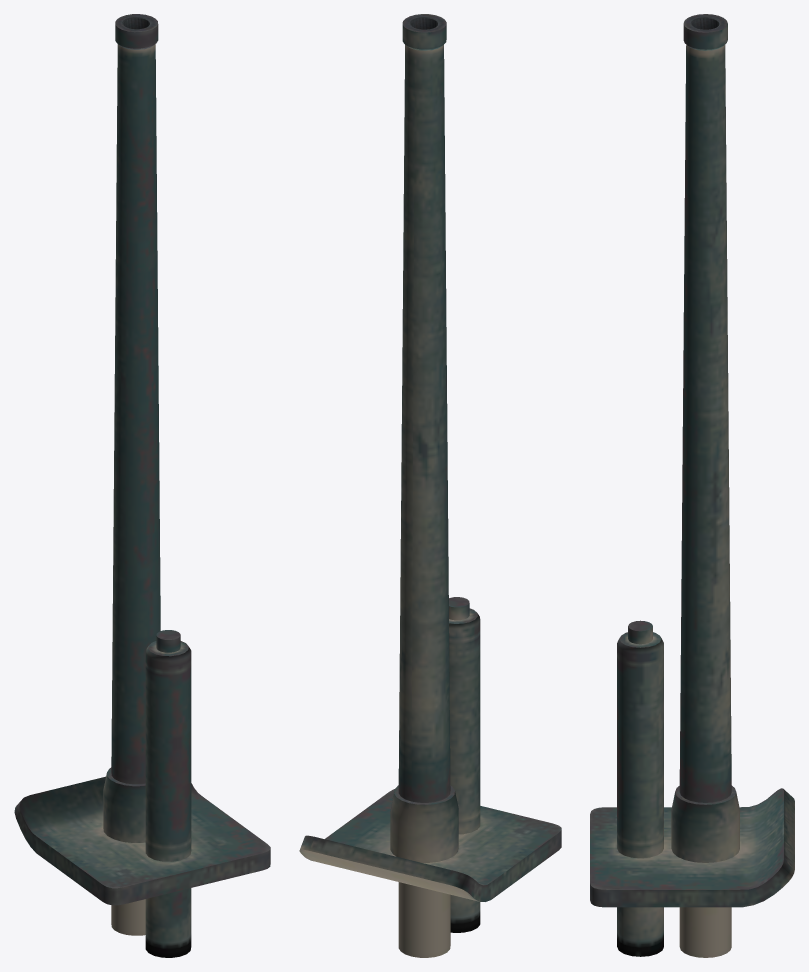
File: Gun_02.glb
The picture shows the model from 3 angles, left to right: view 1: azimuth 30°, elevation 25°; view 2: azimuth 150°, elevation 25°; view 3: azimuth 270°, elevation 25°; orthographic projection. The views are drawn at different scales.
Parts seen in each view (by area): view 1: set_0_group_0; view 2: set_0_group_0; view 3: set_0_group_0.
Part boxes in pixels (box(x1,y1,x2,y2)): set_0_group_0: box(14, 14, 270, 957); set_0_group_0: box(299, 14, 561, 957); set_0_group_0: box(590, 14, 794, 957).
Size of the model in its own units: 0.5362 by 2.8 by 0.5618.
Materials: 1 (1 with a texture image).
